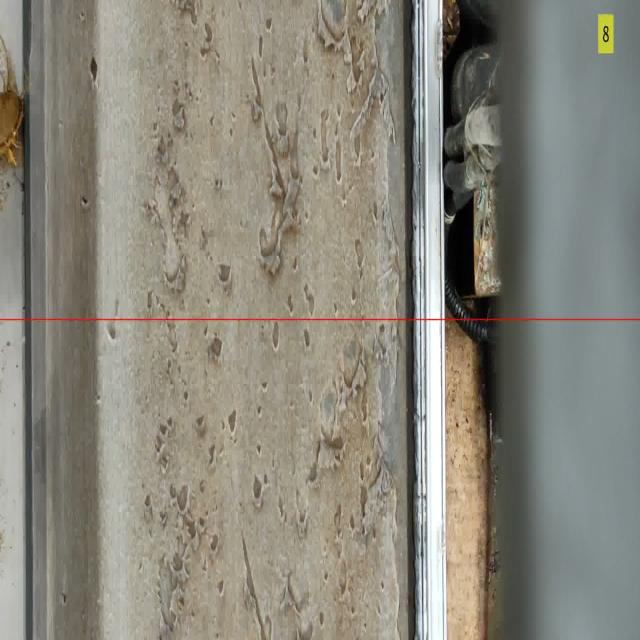Coconut-Conveyor-Belt: (0, 50, 24, 164)
